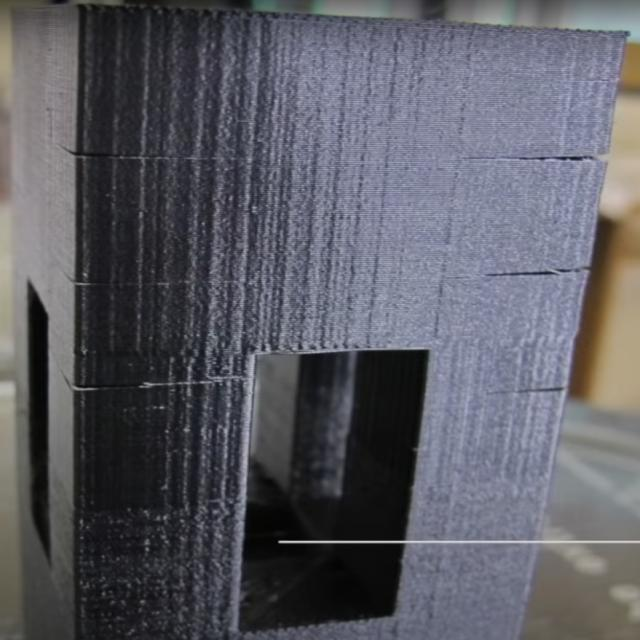cracks: (468, 142, 634, 192), (464, 243, 603, 300), (485, 382, 594, 443)
